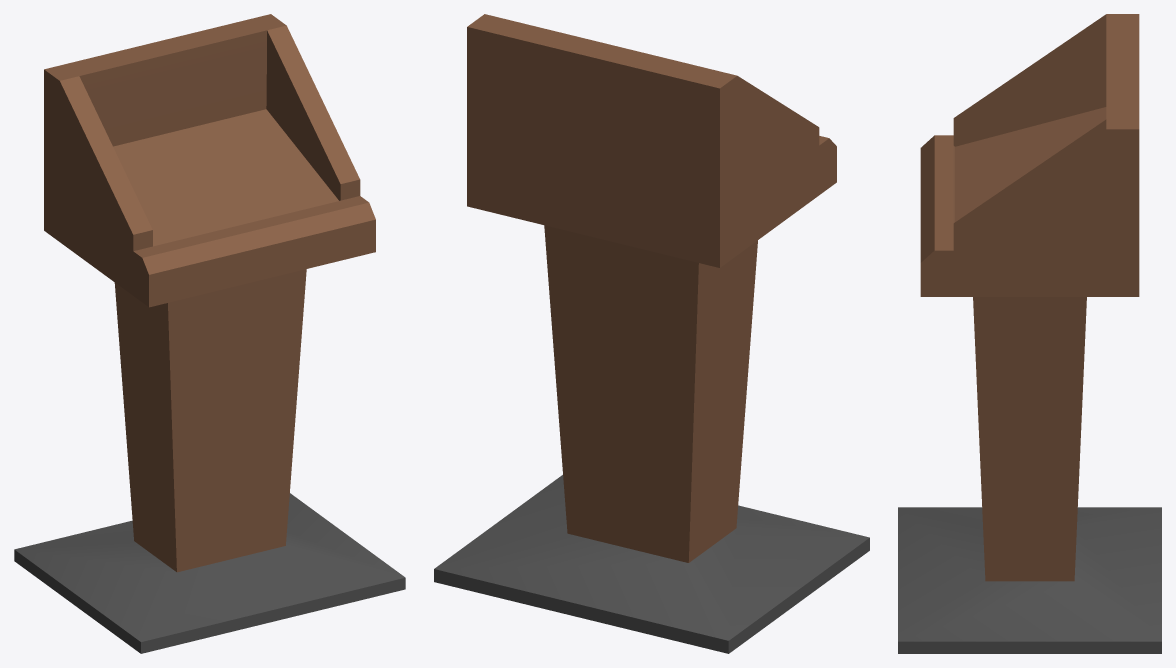
File: podium.fbx
The picture shows the model from 3 angles, left to right: view 1: azimuth 30°, elevation 25°; view 2: azimuth 150°, elevation 25°; view 3: azimuth 270°, elevation 25°; orthographic projection. The views are drawn at different scales.
Visible parts, largest first — view 1: Box001; view 2: Box001; view 3: Box001.
Part boxes in pixels (x1,y1,x2,y2): Box001: (14, 14, 405, 653); Box001: (434, 14, 869, 653); Box001: (898, 14, 1161, 653).
Bounding box in the file's own units: 105 × 188 × 87.1.
